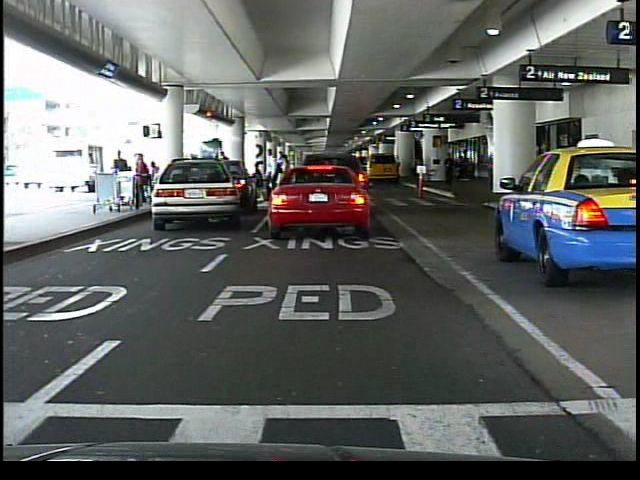person: (266, 147, 282, 210), (254, 159, 274, 204), (217, 149, 234, 201), (111, 148, 127, 203), (340, 151, 356, 200), (443, 152, 456, 188)
